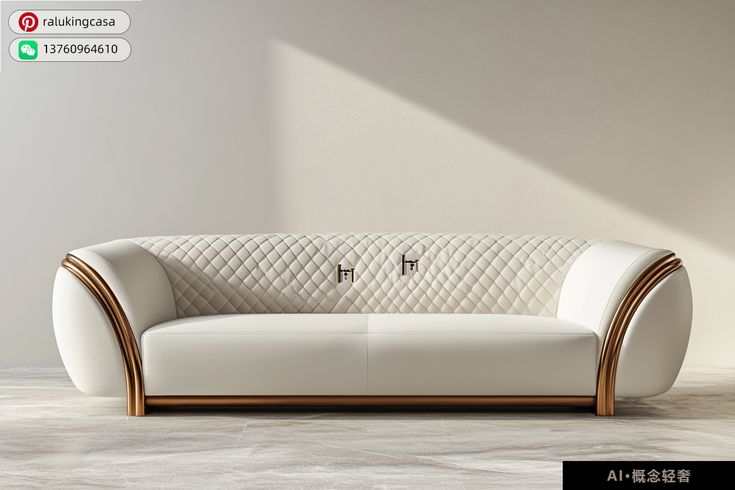3seatersofa: (54, 233, 691, 415)
backrest: (141, 233, 591, 316)
base: (144, 396, 595, 407)
leftarmrest: (559, 241, 668, 337), (616, 268, 691, 395)
leg: (596, 253, 681, 414), (62, 253, 143, 415)
rightarmrest: (71, 239, 176, 346), (53, 268, 123, 396)
seat: (143, 314, 595, 396)
